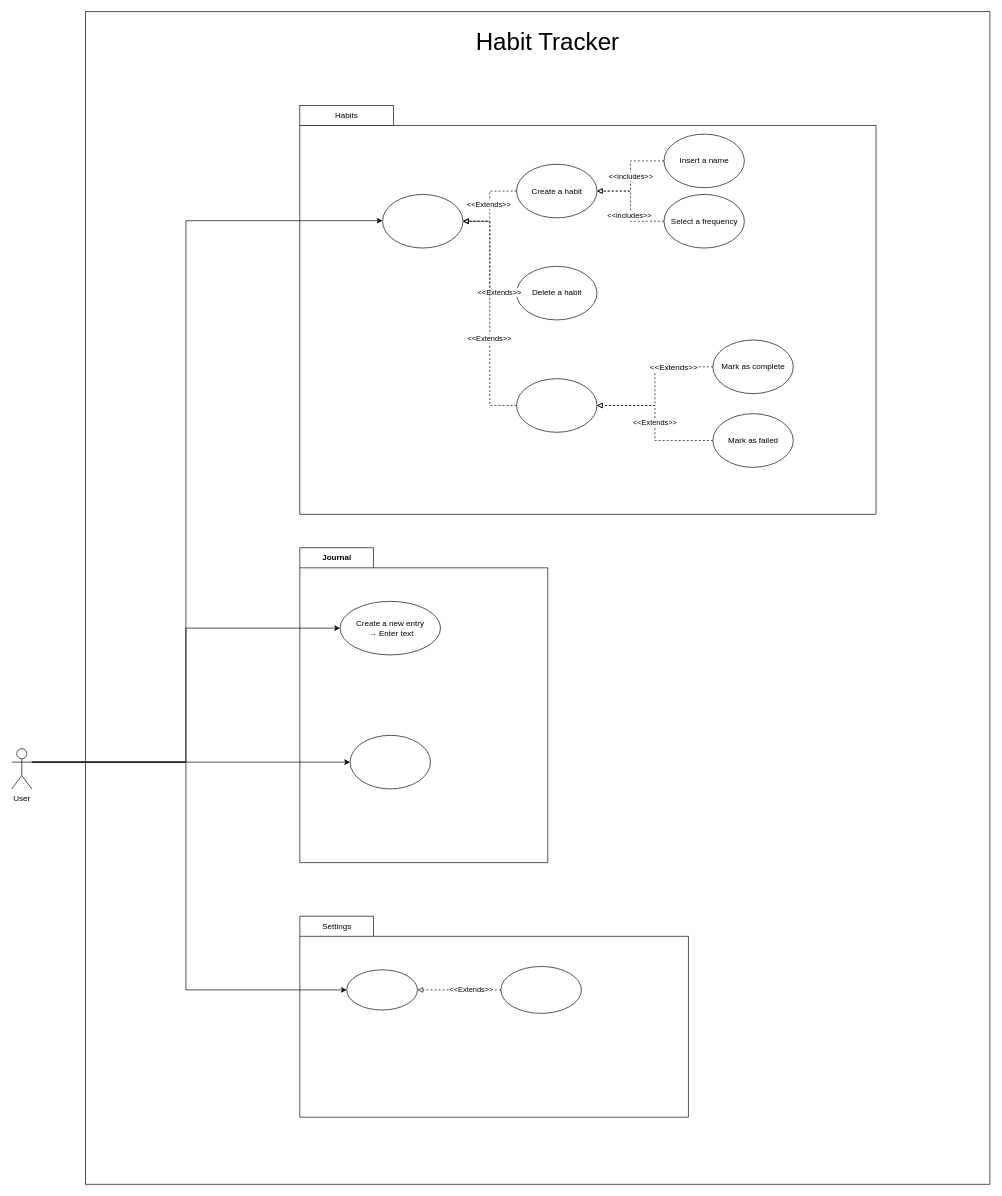
The diagram is 1002 pixels wide and 1196 high, and some of its shapes have lost their labels. The centre of each missing label's shape, as x and y in pixels:
Change your username: the point at 540,989
Input results: the point at 556,405
Manage habits: the point at 422,221
Open the settings: the point at 381,989
See all entries (or scroll down): the point at 389,762
